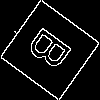B: (25, 24, 81, 79)
